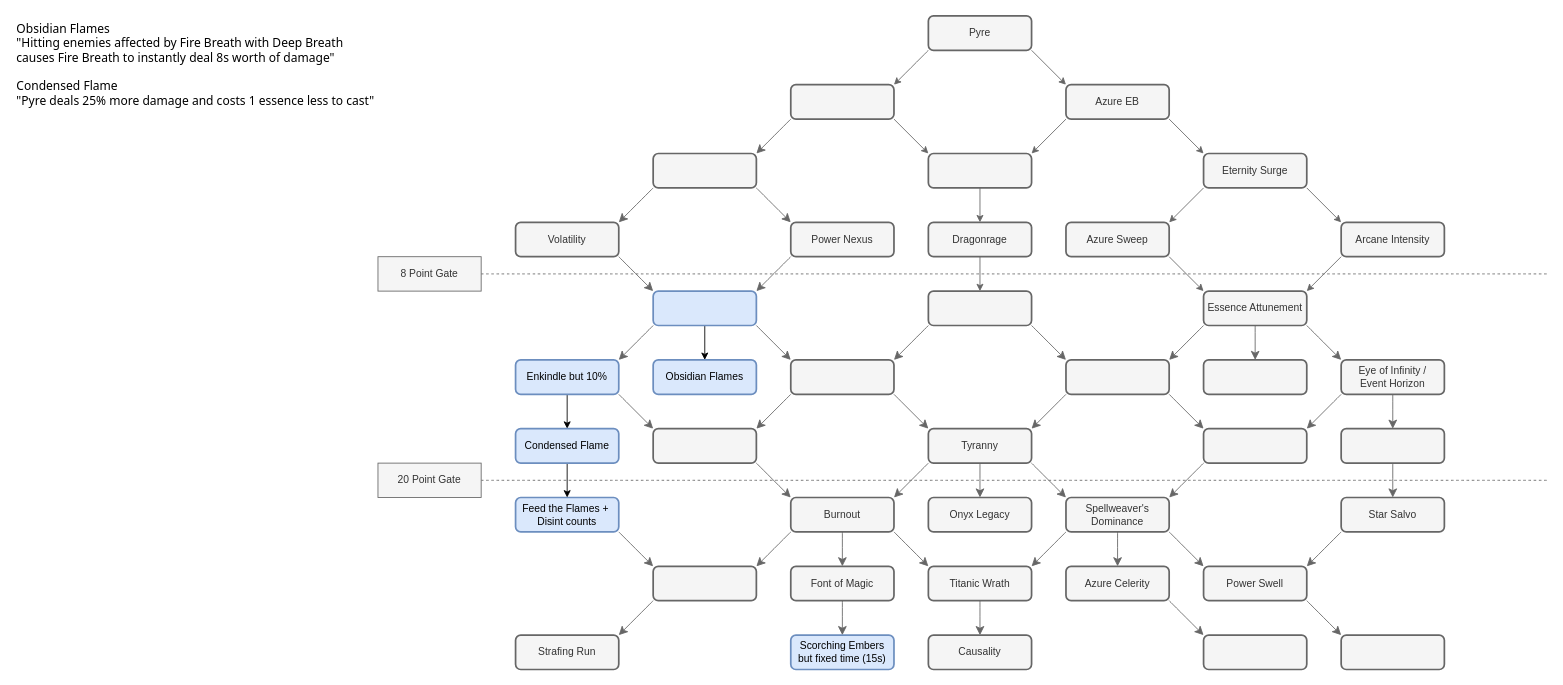
The diagram is 1563 pixels wide and 685 high, and some of its shapes have lost their labels. The shapes that lost their labels are listed below. From the top down, each one's box as (x1, y1, x2, y2) in pixels, then its label:
(789, 83, 894, 120): Ruby EB
(652, 152, 757, 188): Lay Waste
(927, 152, 1032, 188): Quell
(652, 290, 757, 326): Engulfing Blaze
(927, 290, 1032, 326): Animosity
(789, 359, 894, 395): Heat Wave
(1065, 359, 1170, 395): Honed Aggression
(1202, 359, 1307, 395): Eternity's Span
(652, 427, 757, 464): Catalyze
(1202, 427, 1307, 464): Charged Blast
(1340, 427, 1445, 464): Shattering Star
(652, 565, 757, 601): Imminent Destruction
(1202, 634, 1307, 670): Scintilations
(1340, 634, 1445, 670): Iridescence
